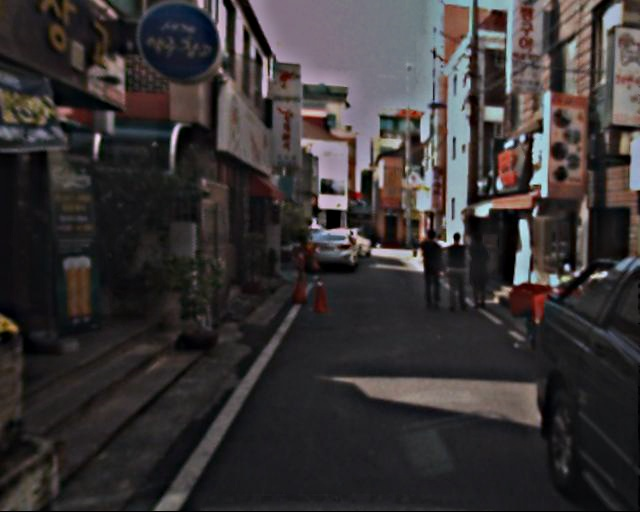person: (415, 230, 449, 312), (440, 228, 474, 310), (463, 230, 495, 309)
